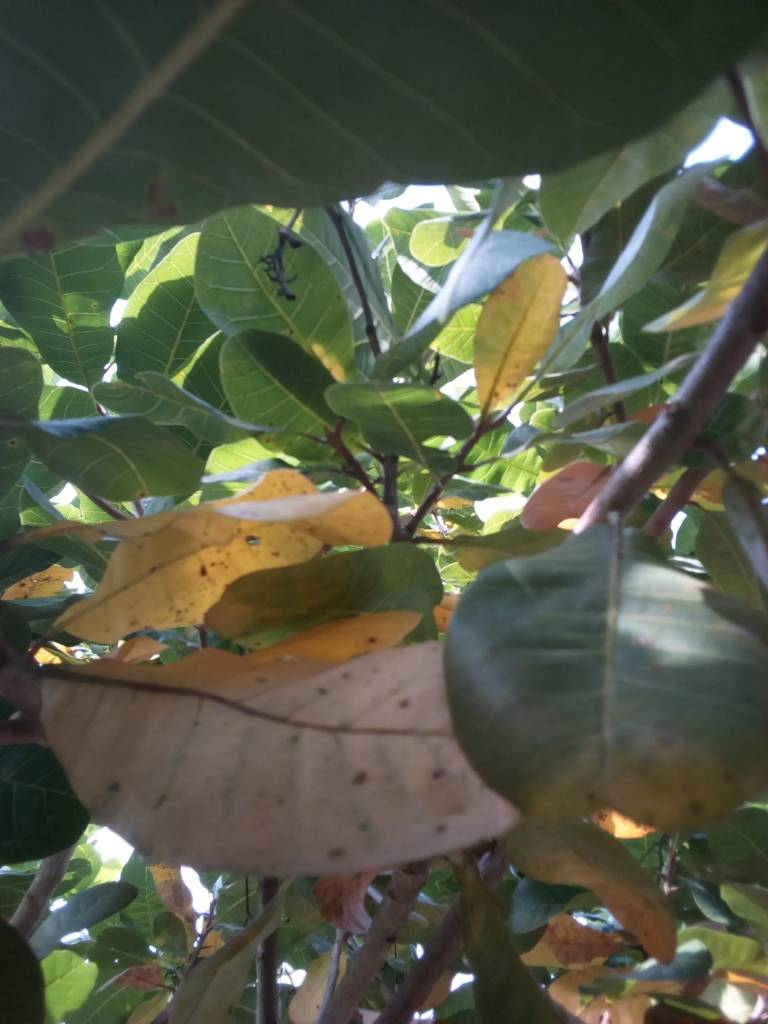Dessèchement des bourgeons: (333, 213, 380, 338), (438, 416, 493, 505), (315, 422, 385, 486), (260, 224, 300, 299)
